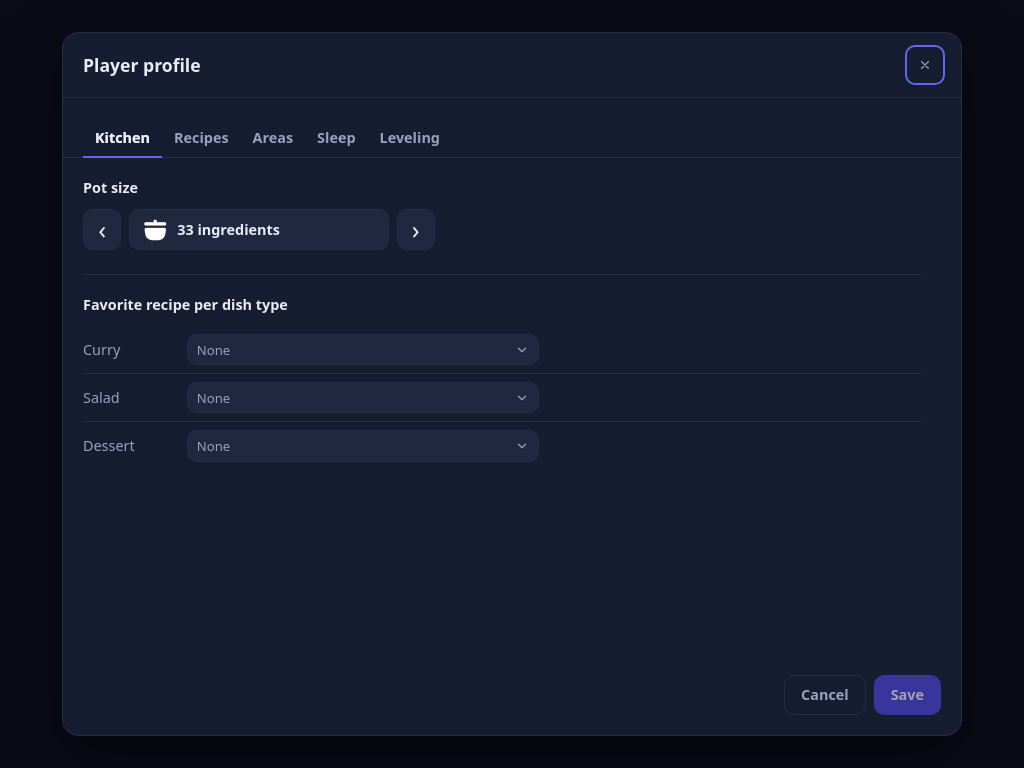
ProgressModal — the draft is not saved until Guardar › changes an area bonus in the draft without sending a PATCH
The image size is (1024, 768).
Expected: the text "33 ingredients" is shown, x1=177 y1=220 x2=280 y2=239
Click the tab "Areas".
click(273, 138)  # box x1=241 y1=118 x2=305 y2=158
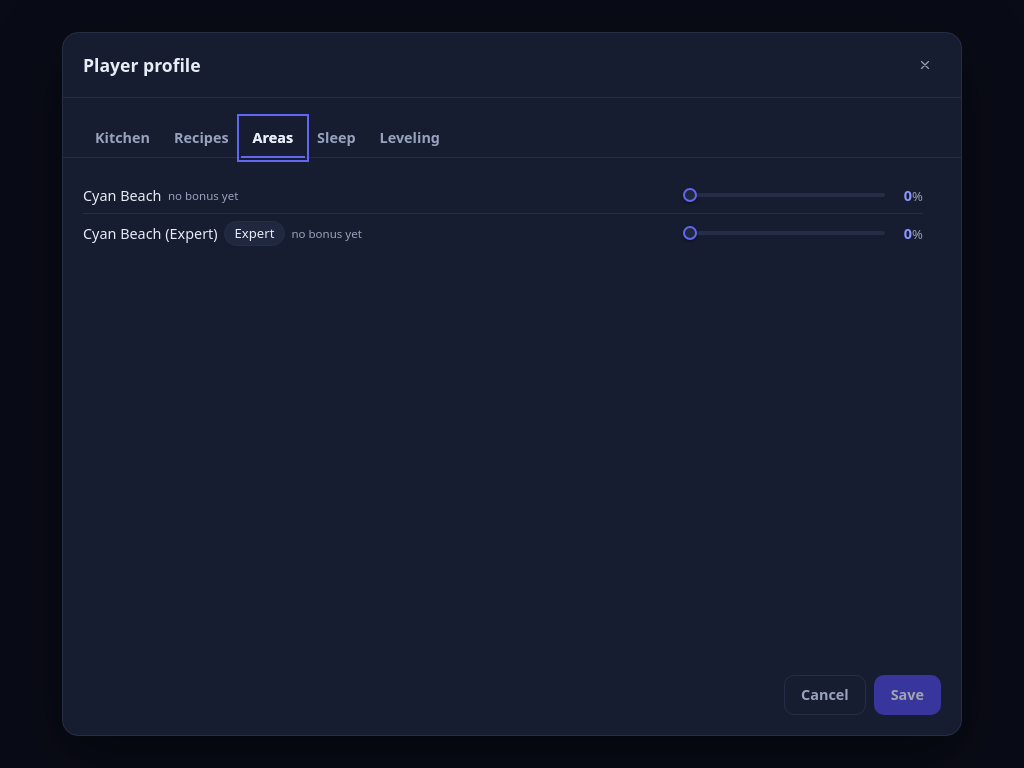
Set the slider named "Area bonus — Cyan Beach" to "42" at x=908, y=195, box x1=683 y1=185 x2=923 y2=205
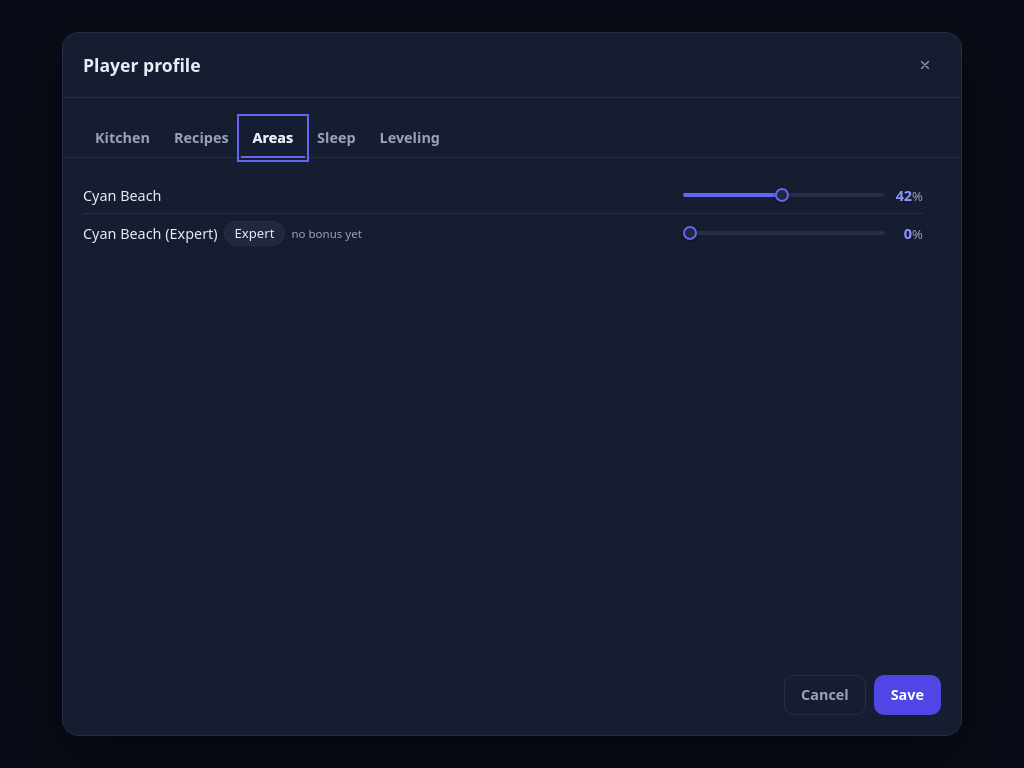
Expected: the text "42" is shown, x1=896 y1=186 x2=912 y2=205
